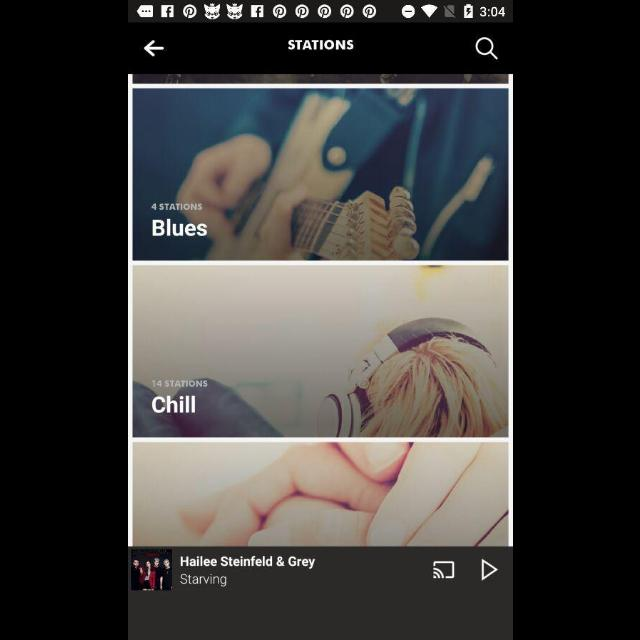icon: (474, 37, 498, 61), (480, 558, 498, 580), (142, 41, 164, 58)
image: (132, 89, 508, 261), (132, 266, 508, 437), (132, 442, 508, 546), (130, 548, 172, 590), (432, 560, 454, 580)
text: (180, 555, 316, 569), (151, 218, 207, 238), (151, 394, 195, 414), (287, 40, 353, 51), (180, 574, 227, 586), (152, 380, 206, 388), (152, 203, 202, 210)
toolbar: (128, 24, 512, 74)
uppertaskbar: (128, 1, 512, 23)
